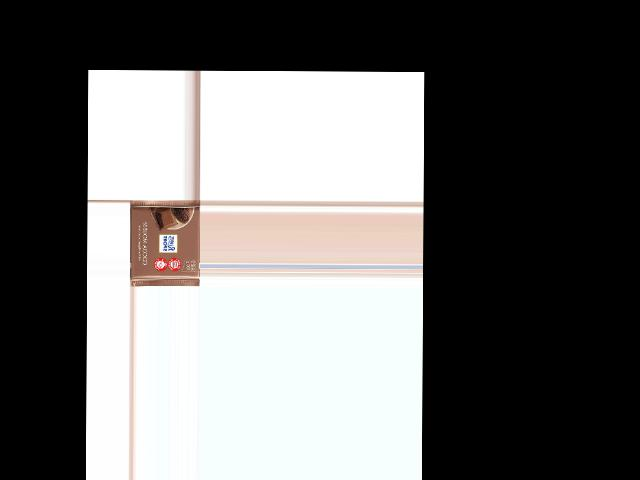chocolate: (128, 200, 199, 285)
